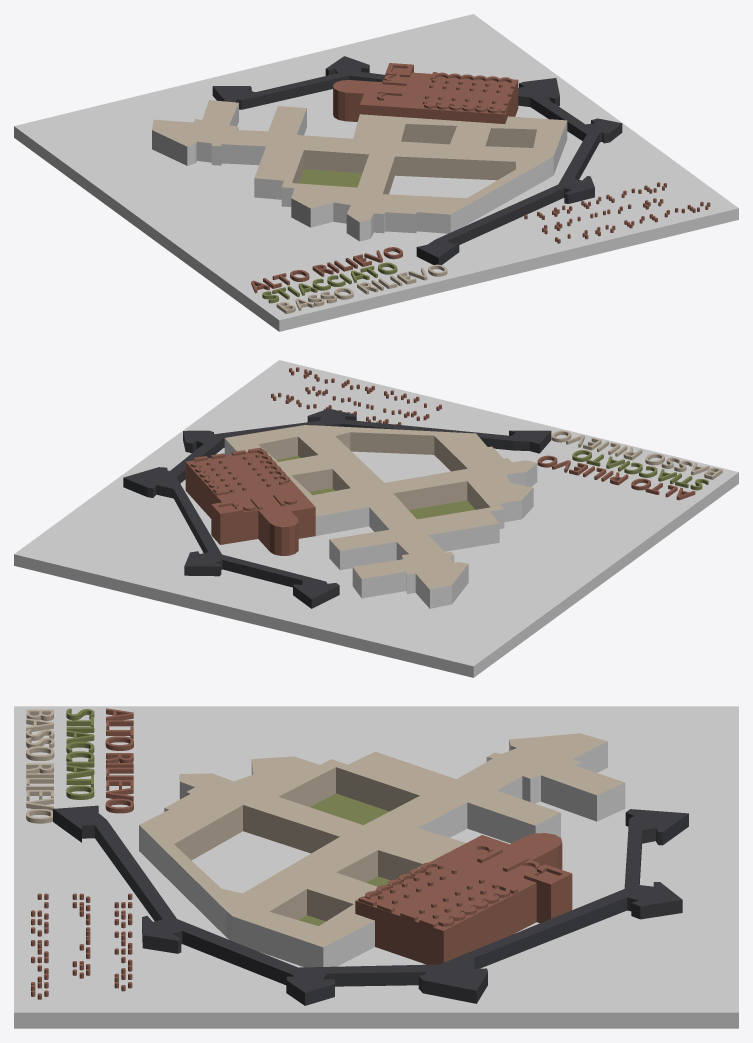
File: formellaClass.glb
3 renders of one model, top to bottom at view 1: azimuth 30°, elevation 25°; view 2: azimuth 150°, elevation 25°; view 3: azimuth 270°, elevation 25°, orthographic. The views are drawn at different scales.
Visible parts, largest first — view 1: Plane.001, Text, Text.001, Cube.001; view 2: Plane.001, Text, Text.001, Cube.001; view 3: Plane.001, Text, Text.001, Cube.001.
Part boxes in pixels (box(x1,y1,x2,y2)): Plane.001: box(14, 14, 738, 331); Text: box(251, 247, 447, 313); Text.001: box(524, 182, 710, 243); Cube.001: box(424, 72, 511, 113); Plane.001: box(14, 360, 738, 677); Text: box(537, 430, 722, 500); Text.001: box(271, 367, 441, 424); Cube.001: box(190, 450, 289, 492); Plane.001: box(14, 706, 738, 1028); Text: box(26, 708, 133, 823); Text.001: box(31, 893, 132, 999); Cube.001: box(365, 862, 510, 926).
Size of the model in its own units: 0.25 by 0.0222 by 0.25.
